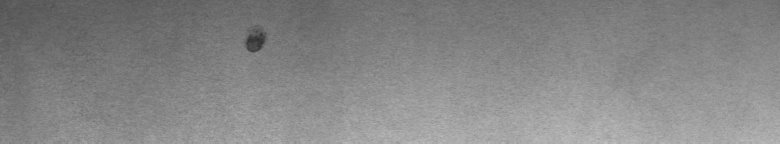fi: (239, 20, 273, 64)
